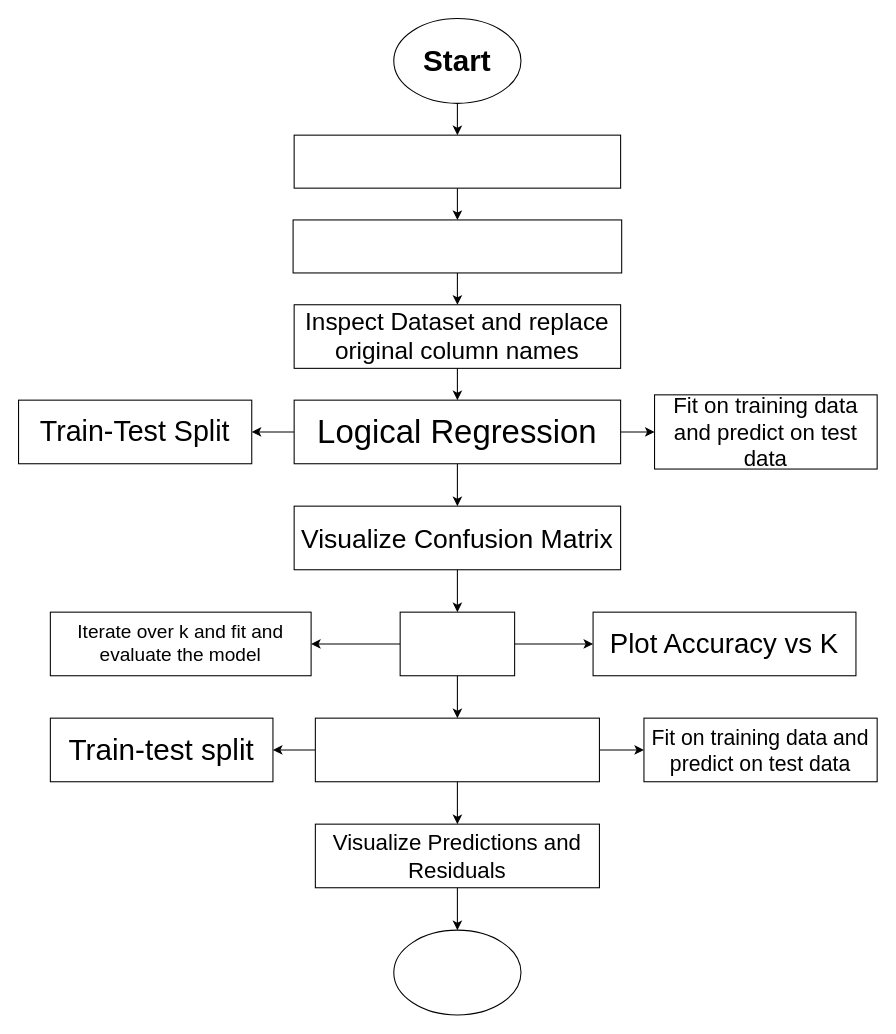
This 896x1034 diagram has some shape labels left out. The shapes that lost their labels are listed below. From the top down, each one's centre as x and y in pixels, then its label:
At point 457,161: "Import Libraries".
At point 457,246: "Load the csv dataset file".
At point 457,643: "KNN".
At point 456,749: "Linear Regression".
At point 457,972: "End".
